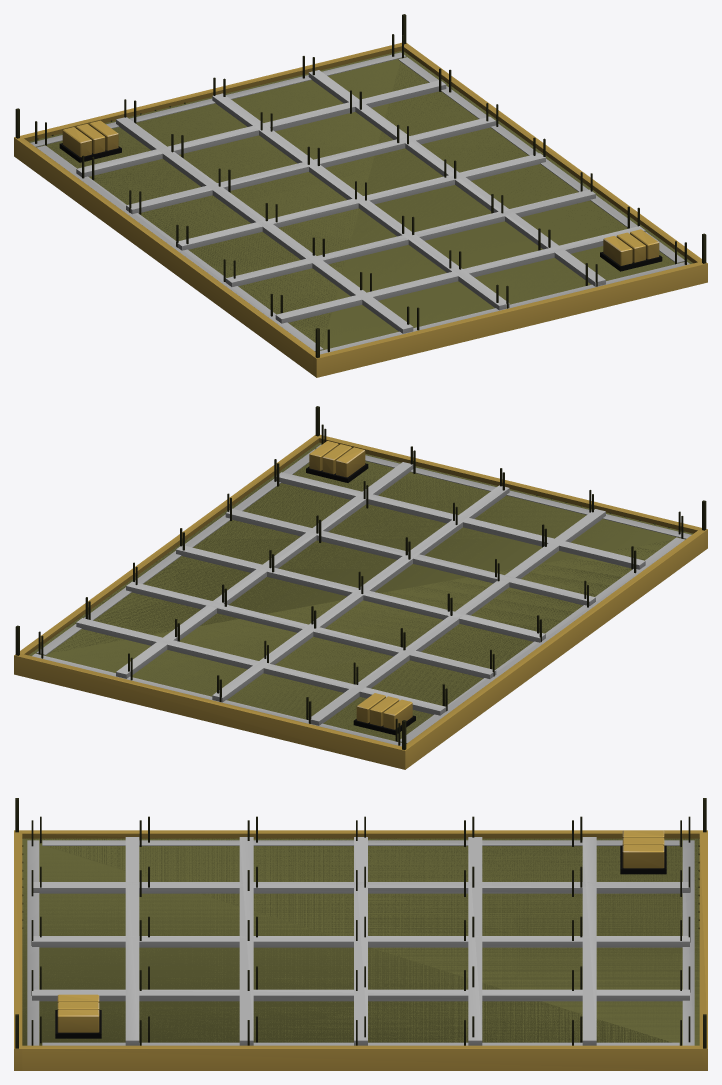
File: meridian_refinery_foundation.glb
3 renders of one model, top to bottom at view 1: azimuth 30°, elevation 25°; view 2: azimuth 150°, elevation 25°; view 3: azimuth 270°, elevation 25°, orthographic. The views are drawn at different scales.
Parts seen in each view (by area): view 1: body (×3); view 2: body (×3); view 3: body (×3).
Part boxes in pixels (bbox=[...]): body (×3): bbox=[14, 14, 707, 377]; body (×3): bbox=[14, 406, 707, 769]; body (×3): bbox=[14, 798, 707, 1070].
Size of the model in its own units: 11.18 by 1.3 by 14.98.
